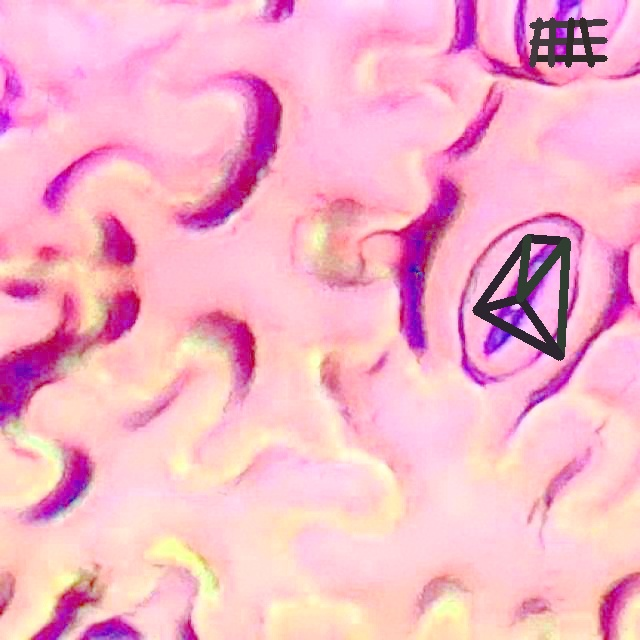open: (472, 235, 569, 360), (530, 17, 607, 67)
